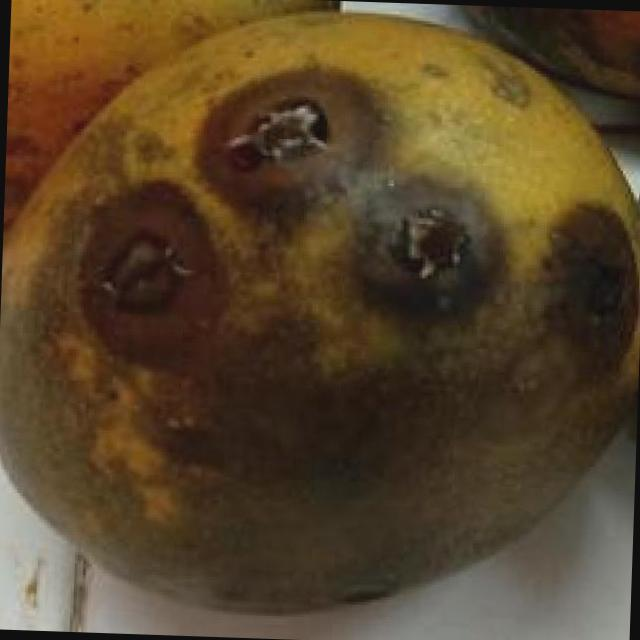Mango: (0, 8, 640, 620), (4, 0, 349, 246)
